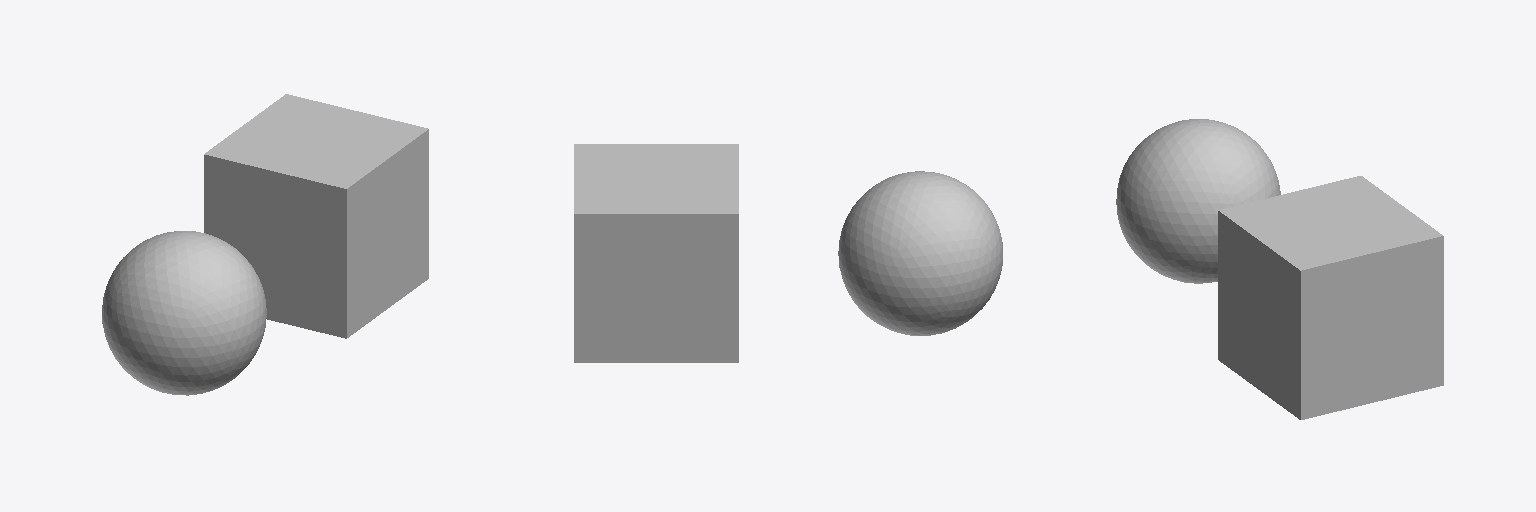
The model's file is cube[0.4,0,0] sphere[-0.4,0,0]_rotZ30.obj.
3 renders of one model, left to right at view 1: azimuth 30°, elevation 25°; view 2: azimuth 150°, elevation 25°; view 3: azimuth 270°, elevation 25°, orthographic.
Visible parts, largest first — view 1: Cube, Icosphere; view 2: Cube, Icosphere; view 3: Cube, Icosphere.
Boxes of the visible parts, box(x1,y1,x2,y2) form: Cube: box(204, 94, 428, 338); Icosphere: box(102, 231, 266, 395); Cube: box(574, 144, 738, 362); Icosphere: box(838, 171, 1002, 335); Cube: box(1218, 176, 1443, 419); Icosphere: box(1116, 119, 1280, 283).
Bounding box in the file's own units: 1.28 × 0.5 × 0.9912.